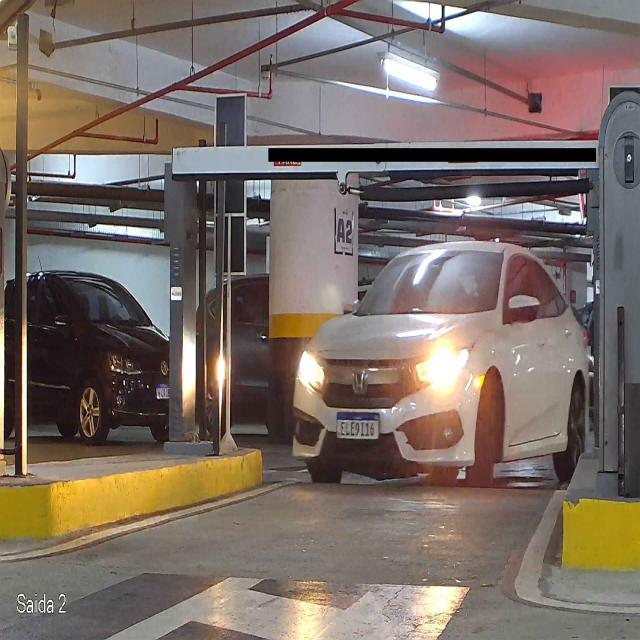mercosul_plate: (335, 410, 382, 442)
